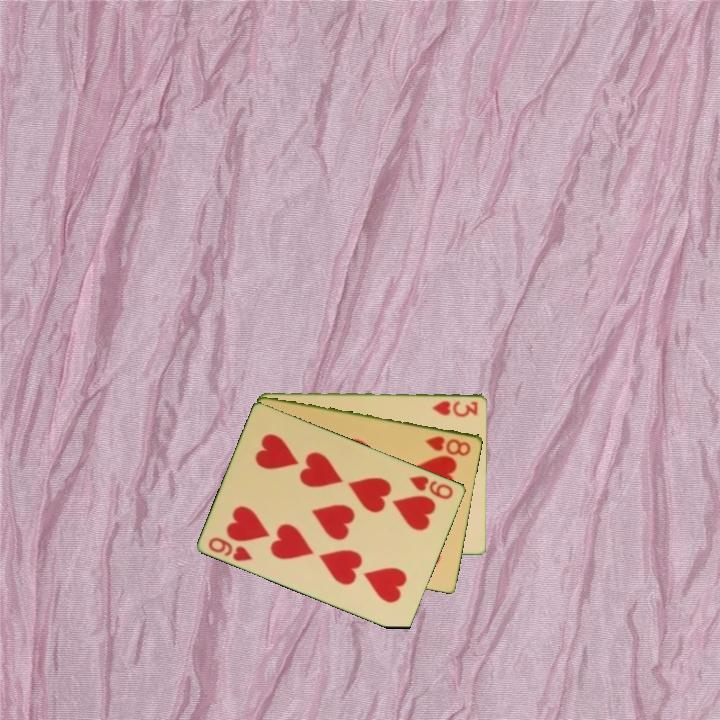3h: (429, 397, 480, 419)
8h: (422, 432, 474, 458)
9h: (205, 533, 256, 564), (406, 472, 456, 502)
